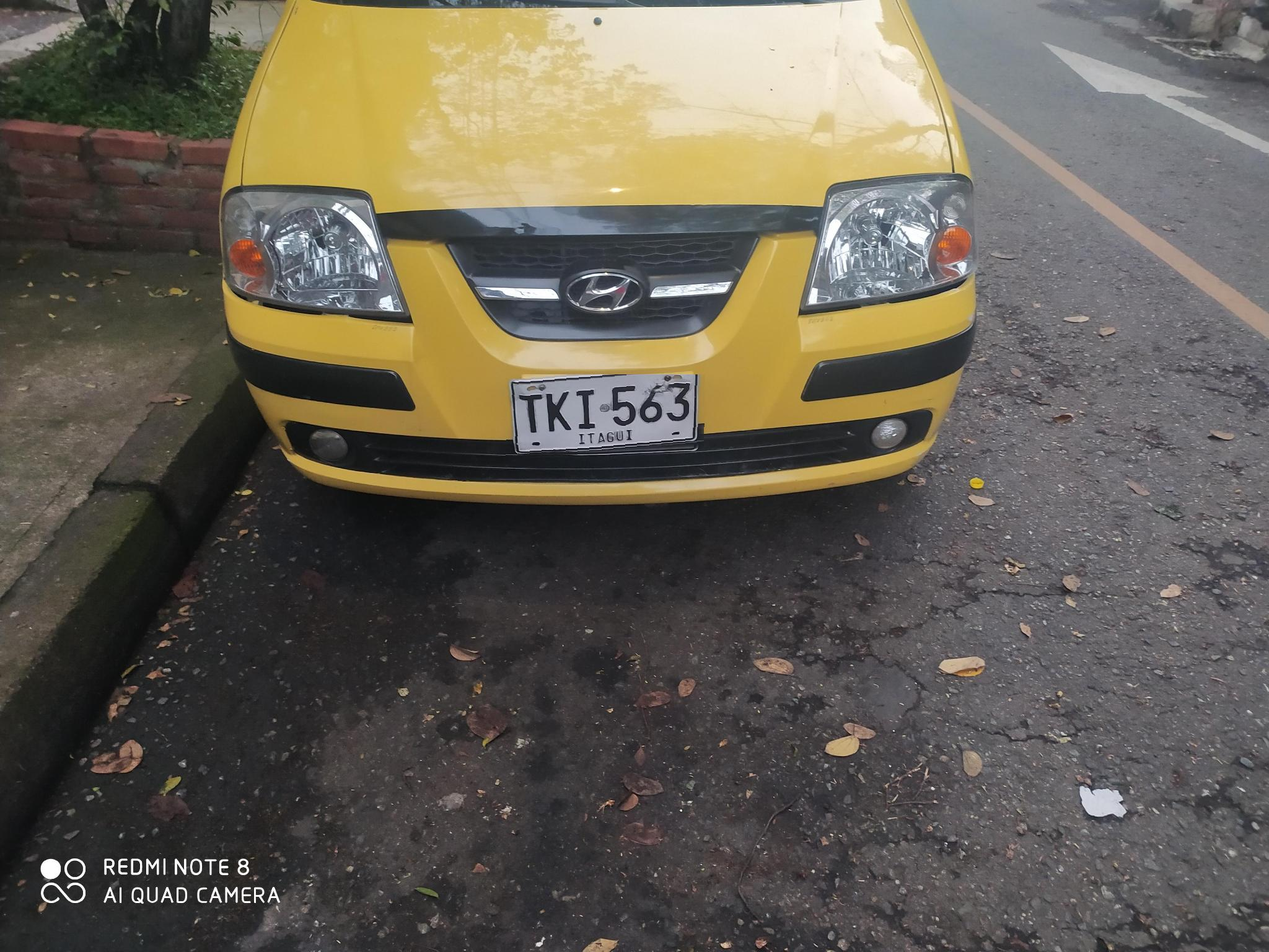placa: (501, 374, 705, 459)
